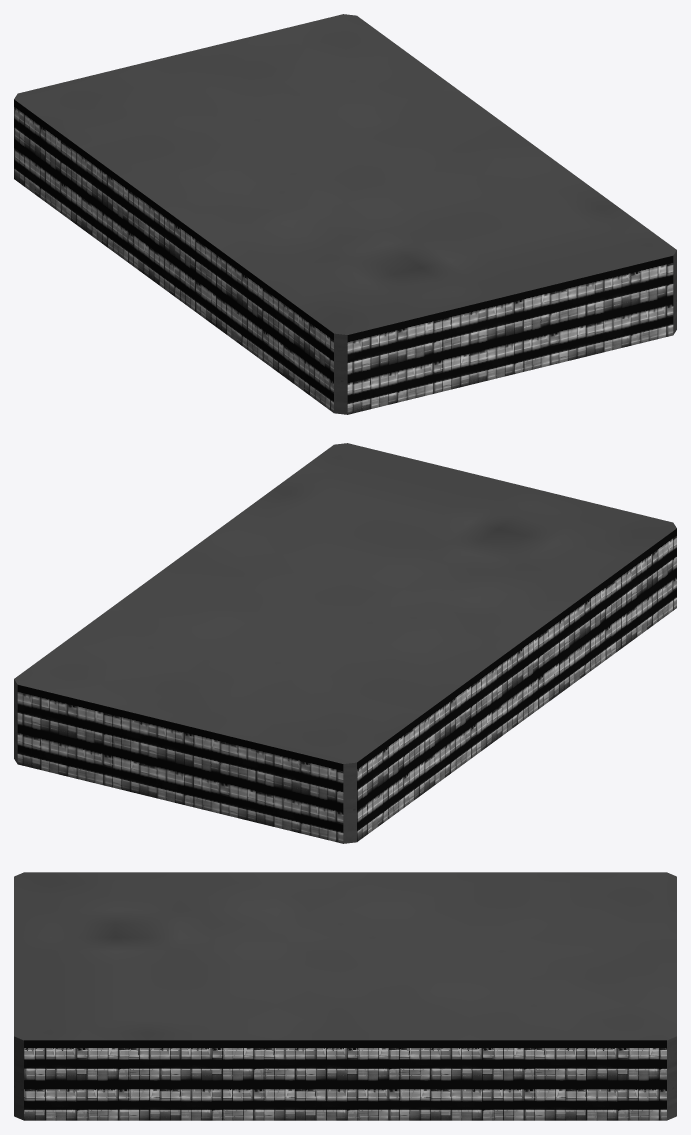
Rendered from SM_BuildingFloorType2.FBX.
3 renders of one model, top to bottom at view 1: azimuth 30°, elevation 25°; view 2: azimuth 150°, elevation 25°; view 3: azimuth 270°, elevation 25°, orthographic.
Parts seen in each view (by area): view 1: SM_BuildingFloorType2; view 2: SM_BuildingFloorType2; view 3: SM_BuildingFloorType2.
Boxes of the visible parts, bbox=[...] form: SM_BuildingFloorType2: bbox=[14, 14, 676, 414]; SM_BuildingFloorType2: bbox=[14, 443, 676, 843]; SM_BuildingFloorType2: bbox=[14, 872, 676, 1120].
Size of the model in its own units: 1800 by 400 by 3000.
